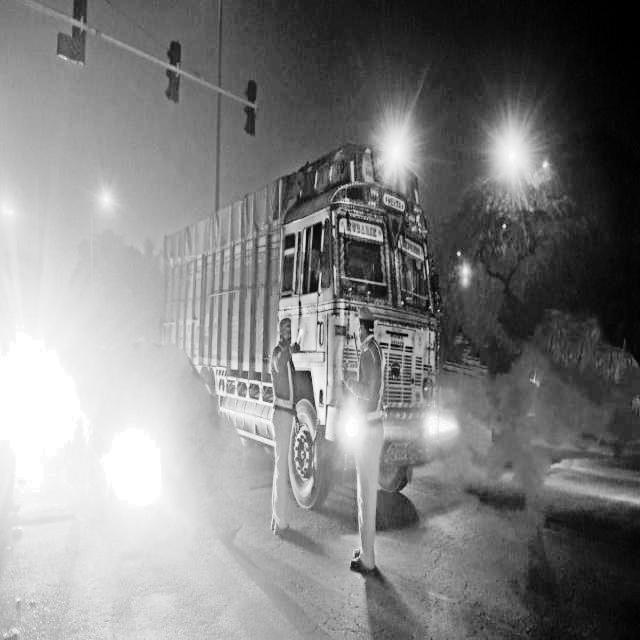Truck: (159, 141, 458, 514)
